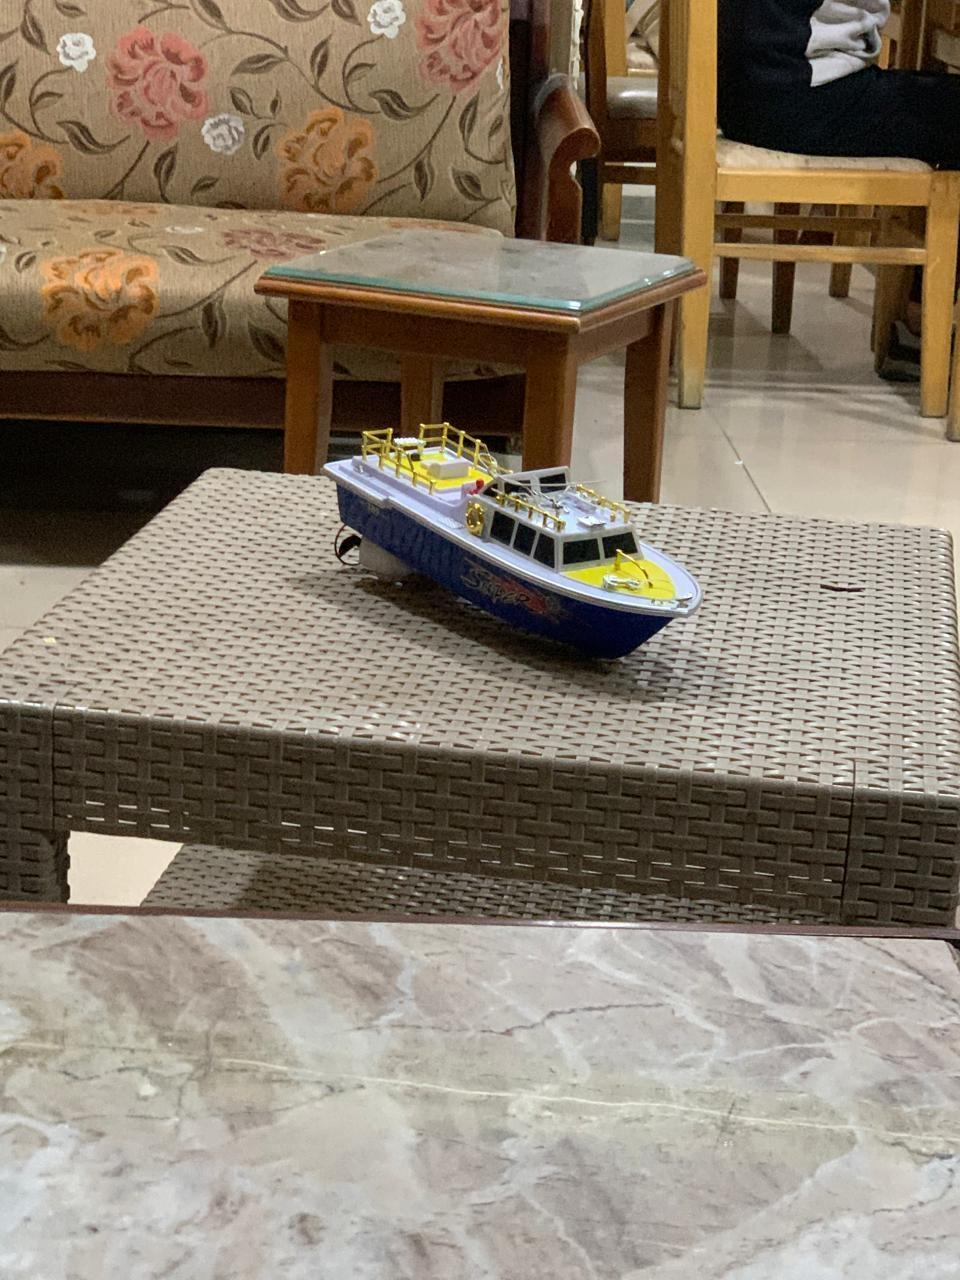Boat: (321, 420, 713, 679)
